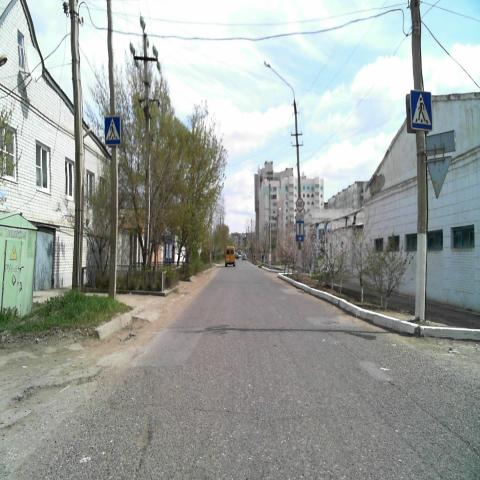7_4: (296, 222, 303, 243)
